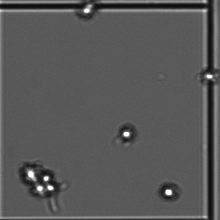Living Cell: (27, 164, 57, 198), (117, 120, 141, 150), (76, 1, 105, 24), (158, 183, 183, 205)
